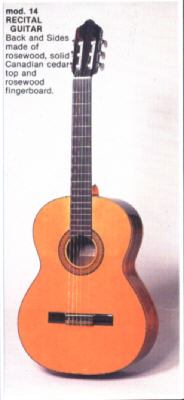guitar: (18, 19, 159, 376)
